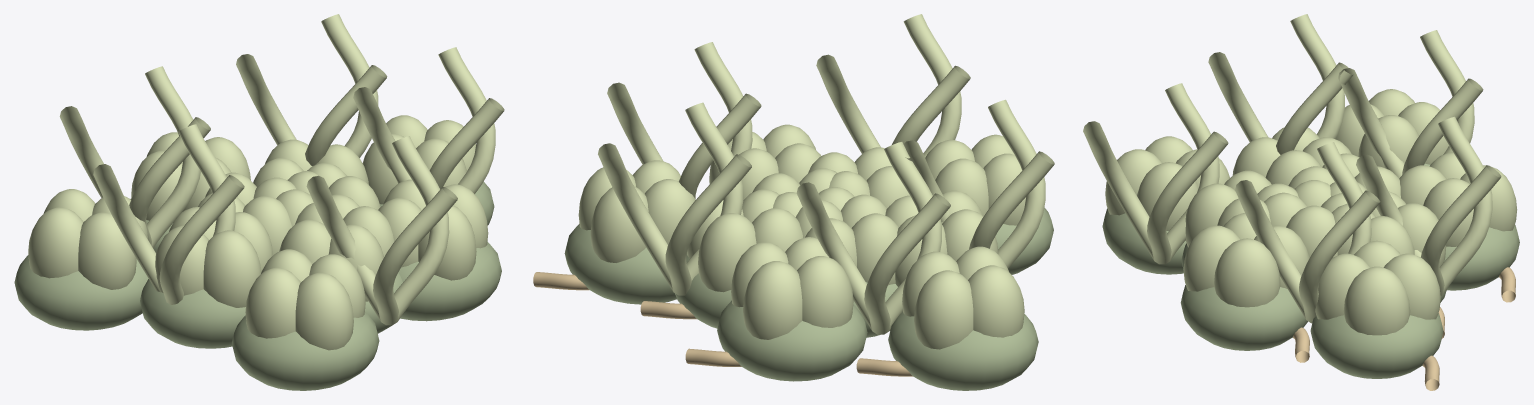
Rendered from bio_oxygen_reef_04_near.glb.
3 renders of one model, left to right at view 1: azimuth 30°, elevation 25°; view 2: azimuth 150°, elevation 25°; view 3: azimuth 270°, elevation 25°, orthographic. The views are drawn at different scales.
Visible parts, largest first — view 1: Lobed gas sac.028, Spiral filament.006, Lobed gas sac.036, Spiral filament.012, Photosynthetic cushion.007, Spiral filament.003, Lobed gas sac.016, Spiral filament, Spiral filament.009, Photosynthetic cushion.009, Lobed gas sac.020, Photosynthetic cushion.004 (+8 smaller); view 2: Lobed gas sac.036, Lobed gas sac.024, Spiral filament.009, Spiral filament.003, Photosynthetic cushion.006, Photosynthetic cushion.009, Lobed gas sac.032, Spiral filament.006, Spiral filament.012, Lobed gas sac.012, Spiral filament, Lobed gas sac.028 (+12 smaller); view 3: Lobed gas sac.032, Spiral filament.006, Lobed gas sac.020, Spiral filament, Spiral filament.009, Spiral filament.012, Photosynthetic cushion.008, Spiral filament.003, Photosynthetic cushion.005, Lobed gas sac.024, Lobed gas sac.028, Lobed gas sac.036 (+10 smaller).
Boxes of the visible parts, <box> form: Lobed gas sac.028: <box>245,249,365,350</box>; Spiral filament.006: <box>306,136,457,325</box>; Lobed gas sac.036: <box>28,189,147,289</box>; Spiral filament.012: <box>93,124,244,304</box>; Photosynthetic cushion.007: <box>232,312,379,390</box>; Spiral filament.003: <box>59,66,210,248</box>; Lobed gas sac.016: <box>155,207,273,307</box>; Spiral filament: <box>353,47,504,193</box>; Spiral filament.009: <box>236,14,387,165</box>; Photosynthetic cushion.009: <box>14,255,148,330</box>; Lobed gas sac.020: <box>378,179,488,280</box>; Photosynthetic cushion.004: <box>140,279,245,348</box>; Lobed gas sac.036: <box>902,246,1024,349</box>; Lobed gas sac.024: <box>731,237,853,339</box>; Spiral filament.009: <box>598,102,751,295</box>; Spiral filament.003: <box>796,142,950,334</box>; Photosynthetic cushion.006: <box>717,300,867,381</box>; Photosynthetic cushion.009: <box>888,312,1038,390</box>; Lobed gas sac.032: <box>578,160,695,262</box>; Spiral filament.006: <box>816,14,970,157</box>; Spiral filament.012: <box>903,99,1054,268</box>; Lobed gas sac.012: <box>687,189,802,292</box>; Spiral filament: <box>607,42,761,199</box>; Lobed gas sac.028: <box>925,134,1025,225</box>; Lobed gas sac.032: <box>1315,240,1440,335</box>; Spiral filament.006: <box>1083,83,1228,264</box>; Lobed gas sac.020: <box>1183,213,1309,307</box>; Spiral filament: <box>1235,142,1380,323</box>; Spiral filament.009: <box>1356,116,1501,295</box>; Spiral filament.012: <box>1208,14,1353,154</box>; Photosynthetic cushion.008: <box>1310,313,1443,378</box>; Spiral filament.003: <box>1338,30,1483,178</box>; Photosynthetic cushion.005: <box>1180,285,1307,350</box>; Lobed gas sac.024: <box>1399,152,1517,246</box>; Lobed gas sac.028: <box>1105,136,1229,230</box>; Lobed gas sac.036: <box>1335,89,1448,167</box>.
Size of the model in its own units: 1.85 by 0.7514 by 1.58.
